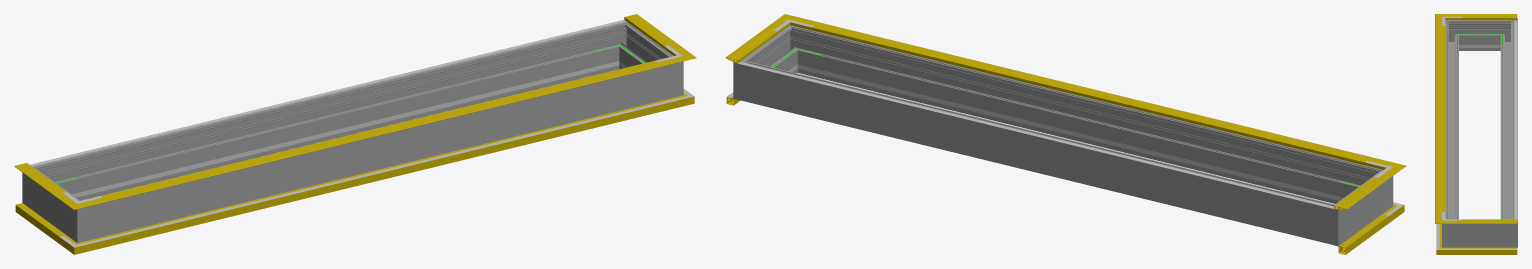
The picture shows the model from 3 angles, left to right: view 1: azimuth 30°, elevation 25°; view 2: azimuth 150°, elevation 25°; view 3: azimuth 270°, elevation 25°; orthographic projection. The views are drawn at different scales.
Visible parts, largest first — view 1: 3DGeom-276, 3DGeom-298, 3DGeom-11, 3DGeom-141, 3DGeom-244, 3DGeom-220, 3DGeom-20, 3DGeom-158, 3DGeom-270, 3DGeom-290, 3DGeom-284, 3DGeom-268 (+6 smaller); view 2: 3DGeom-298, 3DGeom-276, 3DGeom-141, 3DGeom-239, 3DGeom-220, 3DGeom-158, 3DGeom-278, 3DGeom-284, 3DGeom-290, 3DGeom-297, 3DGeom-268, 3DGeom-270 (+3 smaller); view 3: 3DGeom-276, 3DGeom-298, 3DGeom-141, 3DGeom-268, 3DGeom-297, 3DGeom-220, 3DGeom-158, 3DGeom-284, 3DGeom-290, 3DGeom-16, 3DGeom-270, 3DGeom-278 (+14 smaller).
Part boxes in pixels (left/top/right/bottom): 3DGeom-276: left=50, top=27, right=614, bottom=200; 3DGeom-298: left=103, top=68, right=657, bottom=236; 3DGeom-11: left=96, top=100, right=668, bottom=248; 3DGeom-141: left=95, top=60, right=670, bottom=203; 3DGeom-244: left=81, top=67, right=594, bottom=196; 3DGeom-220: left=30, top=20, right=626, bottom=166; 3DGeom-20: left=98, top=101, right=668, bottom=241; 3DGeom-158: left=101, top=60, right=656, bottom=197; 3DGeom-270: left=62, top=194, right=103, bottom=242; 3DGeom-290: left=657, top=49, right=683, bottom=101; 3DGeom-284: left=605, top=21, right=638, bottom=70; 3DGeom-268: left=37, top=175, right=70, bottom=231; 3DGeom-298: left=802, top=30, right=1364, bottom=203; 3DGeom-276: left=759, top=65, right=1317, bottom=239; 3DGeom-141: left=803, top=20, right=1379, bottom=167; 3DGeom-239: left=822, top=70, right=1334, bottom=199; 3DGeom-220: left=737, top=62, right=1334, bottom=209; 3DGeom-158: left=812, top=26, right=1366, bottom=162; 3DGeom-278: left=1312, top=197, right=1353, bottom=246; 3DGeom-284: left=733, top=52, right=763, bottom=104; 3DGeom-290: left=777, top=25, right=811, bottom=73; 3DGeom-297: left=752, top=34, right=794, bottom=72; 3DGeom-268: left=1345, top=179, right=1378, bottom=234; 3DGeom-270: left=1355, top=165, right=1393, bottom=216; 3DGeom-276: left=1500, top=27, right=1517, bottom=219; 3DGeom-298: left=1445, top=27, right=1458, bottom=219; 3DGeom-141: left=1435, top=22, right=1441, bottom=214; 3DGeom-268: left=1462, top=20, right=1497, bottom=50; 3DGeom-297: left=1462, top=224, right=1497, bottom=247; 3DGeom-220: left=1514, top=20, right=1517, bottom=220; 3DGeom-158: left=1442, top=25, right=1445, bottom=211; 3DGeom-284: left=1497, top=214, right=1517, bottom=247; 3DGeom-290: left=1442, top=214, right=1462, bottom=247; 3DGeom-16: left=1457, top=247, right=1517, bottom=254; 3DGeom-270: left=1445, top=20, right=1462, bottom=50; 3DGeom-278: left=1497, top=18, right=1517, bottom=50.
Size of the model in its own units: 3.66 by 0.2596 by 0.6096.
